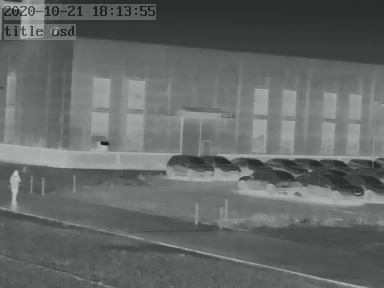person: (10, 168, 20, 206)
vehicle: (301, 172, 363, 201), (238, 169, 304, 194), (165, 153, 213, 178), (205, 153, 243, 177), (355, 173, 384, 202), (232, 155, 271, 171), (262, 155, 301, 171), (347, 156, 377, 170), (317, 156, 346, 170), (295, 156, 324, 169)
